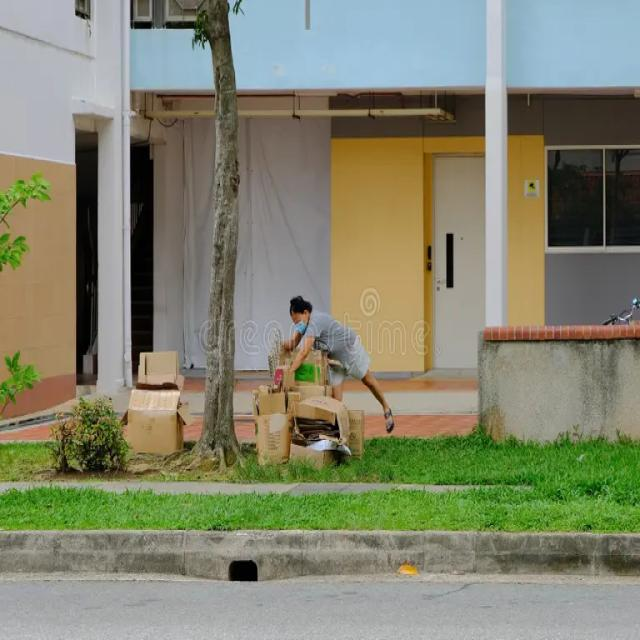bulk_waste: (262, 368, 342, 471), (127, 356, 182, 450)
